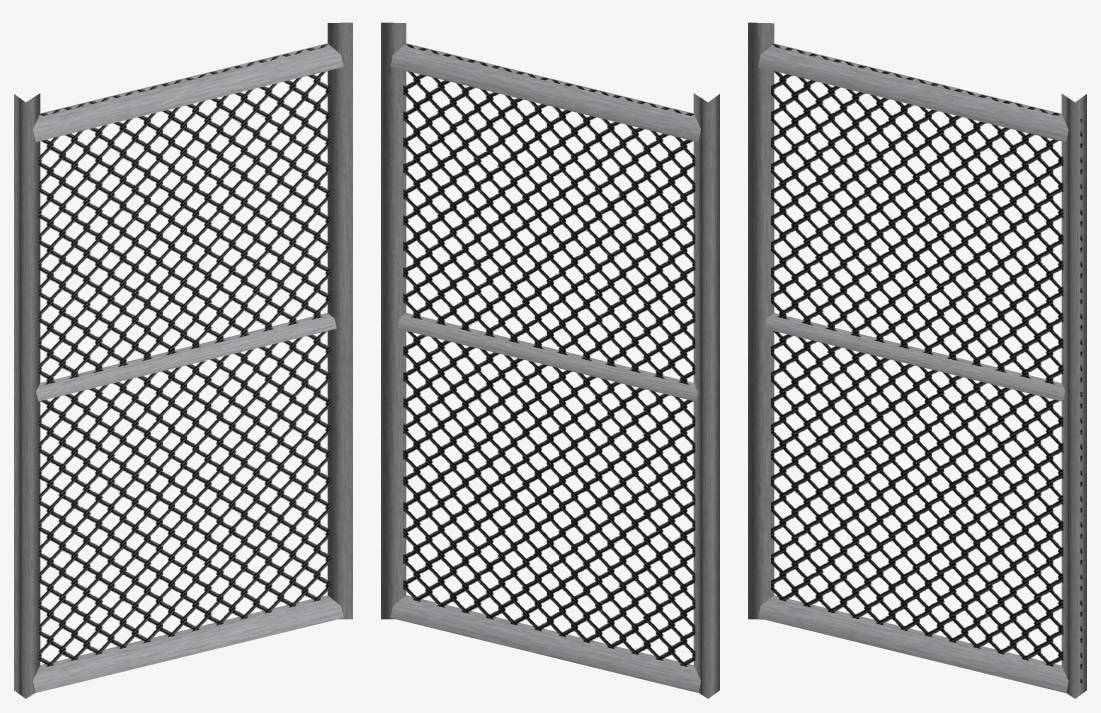
The model's file is fence-tall-gate-1m-cbj_LOD03.gltf.
3 renders of one model, left to right at view 1: azimuth 30°, elevation 25°; view 2: azimuth 150°, elevation 25°; view 3: azimuth 330°, elevation 25°, orthographic.
Visible parts, largest first — view 1: gate2-03; view 2: gate2-03; view 3: gate2-03.
Part boxes in pixels (<box>): gate2-03: <box>14,22,352,698</box>; gate2-03: <box>381,22,719,698</box>; gate2-03: <box>748,22,1086,698</box>.
Size of what is drawn, in the model's own units: 1.07 by 1.85 by 0.066.
